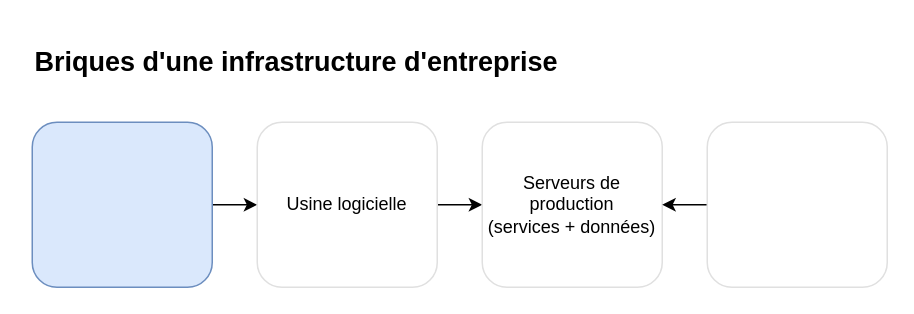
Image size: 914x314. Some labels were removed from this diagram. Each missing label, with the centre of its shape:
"Postes d'exploitation" goes at [796,204].
"Postes de développement" goes at [121,204].
